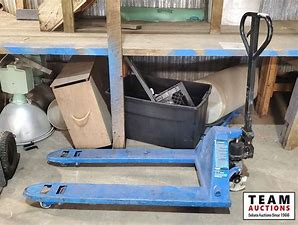Pallet Jack: (22, 10, 275, 213)
